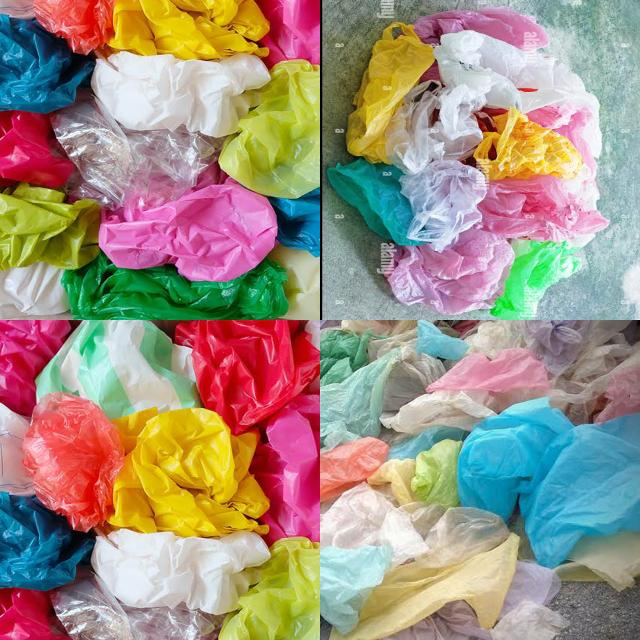Single-layer Plastic: (458, 398, 640, 567), (434, 30, 601, 158), (99, 162, 278, 281), (109, 408, 269, 538), (329, 534, 519, 639), (51, 96, 224, 210), (175, 319, 320, 434), (36, 321, 202, 419), (91, 51, 270, 138), (91, 529, 270, 615), (61, 252, 289, 319), (22, 392, 124, 531), (219, 60, 320, 198), (320, 345, 445, 449), (346, 22, 435, 163), (51, 571, 222, 640), (380, 228, 514, 314), (250, 395, 320, 545), (219, 536, 320, 639), (108, 0, 270, 60), (385, 80, 486, 175), (0, 491, 95, 591), (0, 14, 95, 113), (465, 320, 630, 375), (320, 482, 428, 566), (479, 175, 609, 242), (0, 182, 99, 269), (474, 108, 584, 180), (328, 159, 420, 245), (400, 160, 486, 251), (399, 502, 510, 568), (490, 239, 581, 319), (0, 320, 71, 416), (428, 348, 550, 402), (320, 545, 392, 634), (414, 6, 549, 50), (0, 111, 74, 188), (381, 391, 495, 434), (256, 0, 321, 69), (320, 436, 389, 501), (32, 0, 113, 54), (0, 262, 71, 320), (268, 244, 320, 320), (410, 439, 462, 509), (269, 188, 320, 257), (0, 402, 35, 496)
